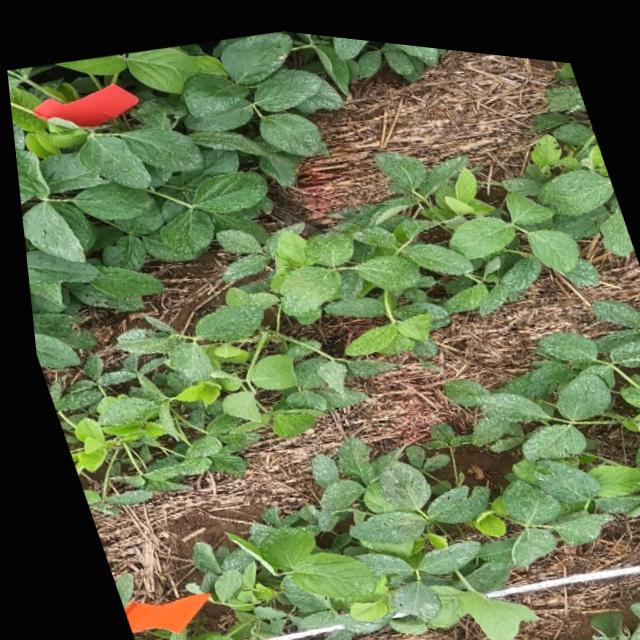soy_plant: (6, 25, 630, 510), (153, 286, 640, 640), (571, 589, 640, 640)
